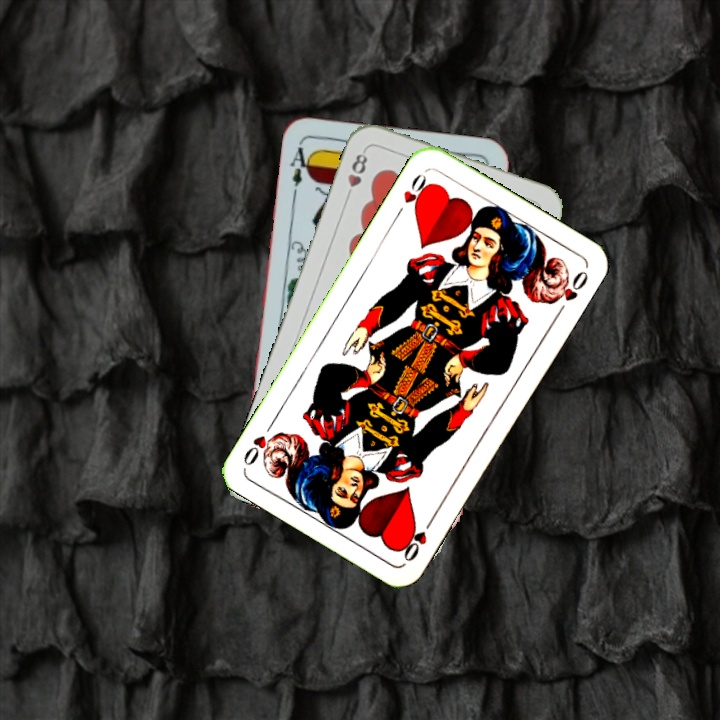EA: (286, 139, 315, 198)
H8: (342, 146, 371, 203)
HO: (396, 512, 438, 565), (391, 169, 434, 220)
